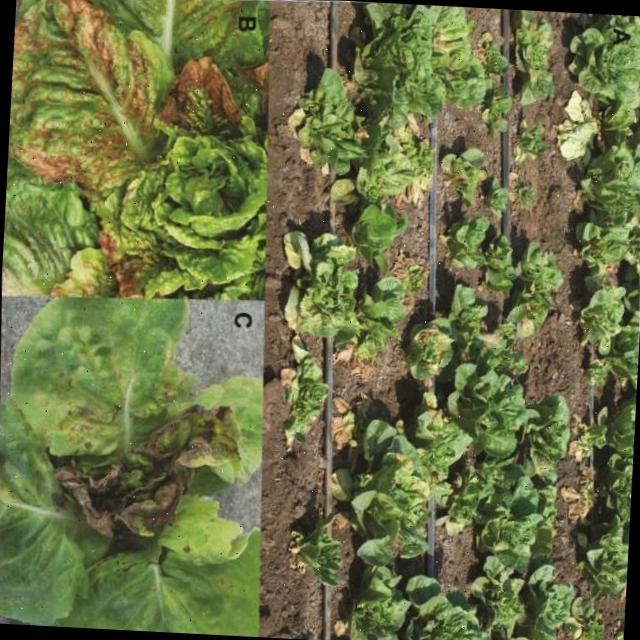Powdery_Mildew: (2, 3, 264, 296), (3, 351, 254, 619)
